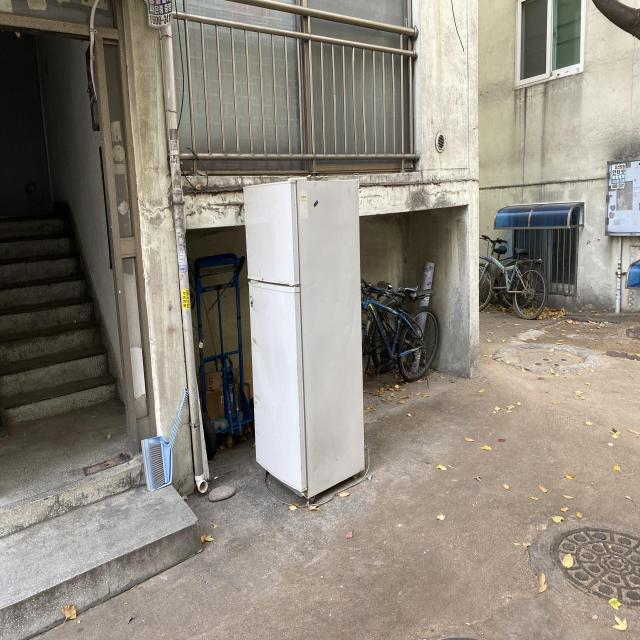refrigerator: (242, 179, 369, 501)
